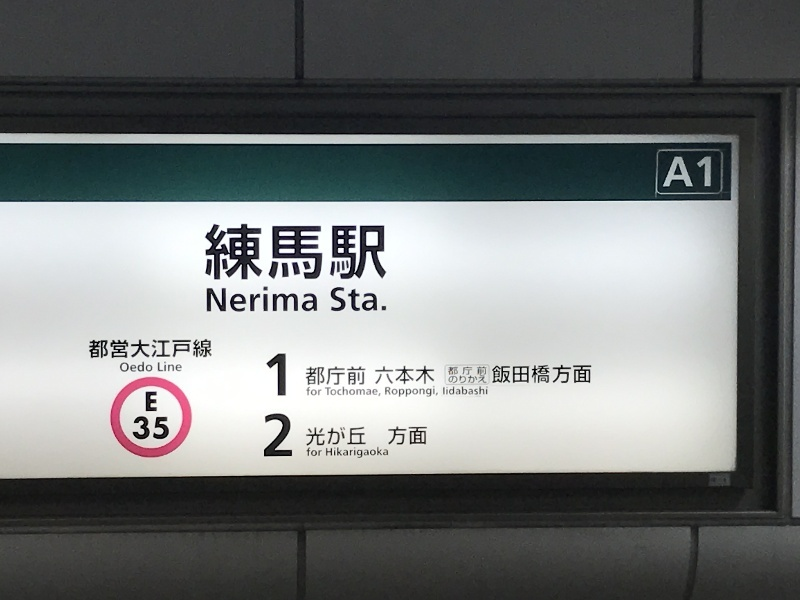text: (209, 224, 224, 281), (225, 224, 240, 281), (241, 224, 256, 281), (257, 224, 272, 281), (273, 224, 288, 281), (289, 224, 304, 281), (305, 224, 320, 281), (321, 224, 336, 281), (337, 224, 352, 281), (353, 224, 368, 281), (369, 224, 384, 281), (273, 413, 288, 457), (273, 353, 286, 397), (673, 156, 688, 188), (689, 156, 704, 188), (209, 285, 224, 313), (225, 285, 240, 313), (241, 285, 256, 313), (257, 285, 272, 313), (273, 285, 288, 313), (289, 285, 304, 313), (337, 287, 352, 312), (353, 287, 368, 312), (369, 287, 384, 312), (145, 416, 160, 441), (305, 285, 318, 313), (264, 413, 272, 457), (97, 339, 112, 359), (113, 339, 128, 359), (129, 339, 144, 359), (145, 339, 160, 359), (161, 339, 176, 359), (177, 339, 192, 359), (193, 339, 208, 359), (132, 416, 144, 441), (497, 364, 512, 384), (513, 364, 528, 384), (529, 364, 544, 384), (545, 364, 560, 384), (561, 364, 576, 384), (577, 364, 592, 384), (401, 426, 416, 446), (146, 391, 160, 412), (321, 366, 336, 385), (337, 366, 352, 385), (353, 366, 368, 385), (369, 366, 384, 385), (385, 366, 400, 385), (401, 366, 416, 385), (417, 366, 432, 385), (321, 427, 336, 446), (337, 427, 352, 446), (306, 366, 320, 385), (353, 427, 367, 446), (266, 353, 272, 397), (664, 156, 672, 188), (307, 427, 320, 446), (388, 426, 400, 446), (705, 156, 712, 188), (161, 416, 169, 441), (417, 426, 427, 446), (337, 447, 352, 459), (353, 447, 368, 459), (369, 447, 384, 459), (289, 413, 293, 457), (205, 224, 208, 281), (129, 362, 144, 373), (385, 386, 400, 397), (401, 386, 416, 397), (417, 386, 432, 397), (330, 287, 336, 312), (161, 362, 176, 372), (337, 387, 352, 397), (353, 387, 368, 397), (449, 367, 464, 376), (465, 367, 480, 376), (449, 386, 464, 395), (465, 386, 480, 395), (306, 387, 320, 396), (90, 339, 96, 359), (369, 387, 381, 397), (449, 376, 464, 384), (465, 376, 480, 384), (326, 447, 336, 459), (307, 448, 320, 457), (385, 224, 387, 281), (325, 387, 336, 397), (145, 362, 153, 373), (492, 364, 496, 384), (121, 362, 128, 373), (481, 386, 488, 395), (209, 339, 212, 359), (177, 362, 183, 372), (433, 386, 438, 397), (481, 367, 487, 376), (385, 287, 387, 312), (481, 376, 487, 384), (385, 447, 389, 459), (444, 386, 448, 395), (207, 285, 208, 313), (158, 362, 160, 372), (433, 366, 434, 385), (321, 387, 322, 396), (321, 448, 322, 457)
